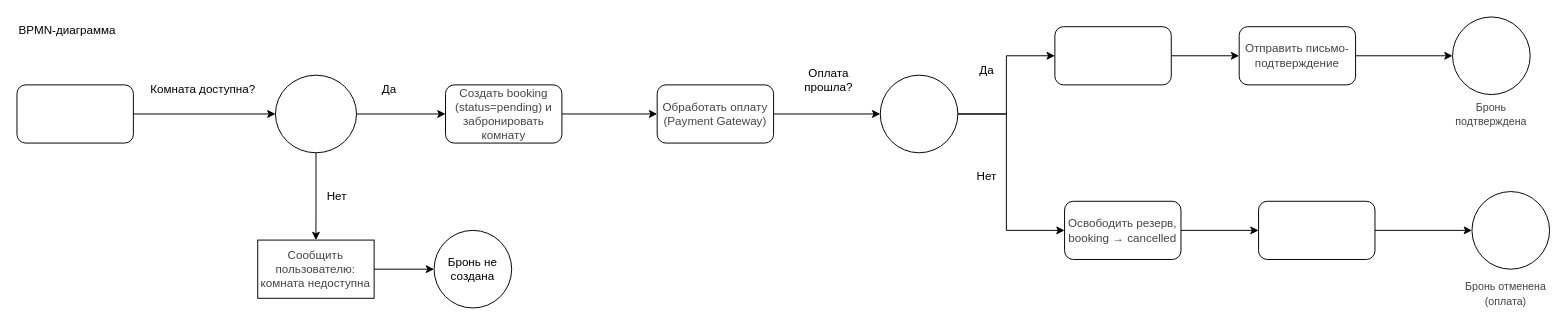
The diagram is 1567 pixels wide and 325 high, and some of its shapes have lost their labels. Each missing label, with the centre of its shape:
"Выбор комнаты и дат (checkin/checkout)" goes at point (74, 113).
"Подтвердить бронь (status=confirmed)" goes at point (1112, 55).
"Сообщить пользователю: оплата отклонена" goes at point (1316, 229).
